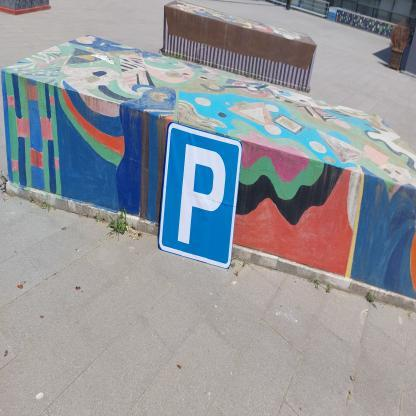parking: (161, 126, 239, 264)
